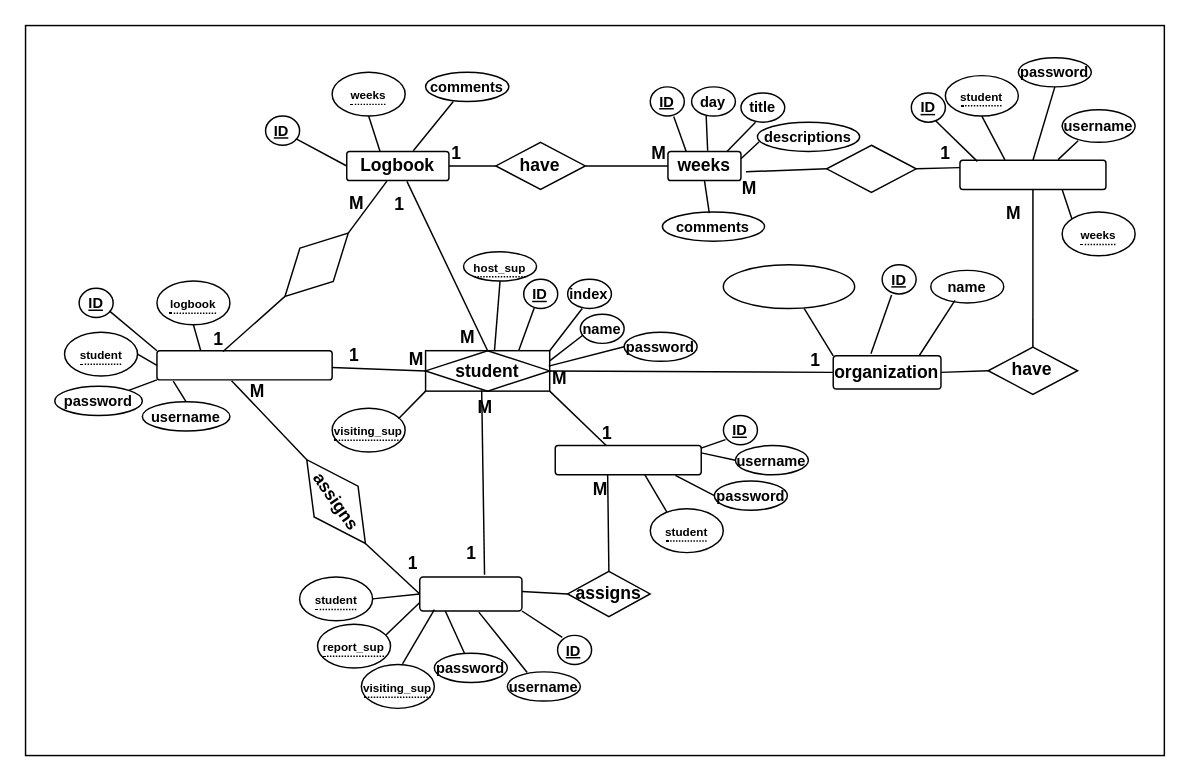
The diagram is 1190 pixels wide and 781 high, and some of its shapes have lost their labels. The centre of each missing label's shape, as x and y in pixels:
"attends" goes at (x=870, y=168).
"coordinator" goes at (x=470, y=593).
"department(host_sup)" goes at (x=788, y=285).
"host_supervisor" goes at (x=1032, y=174).
"report_supervisor" goes at (x=627, y=459).
"views" goes at (x=316, y=264).
"visiting_supervisor" goes at (x=243, y=364).
